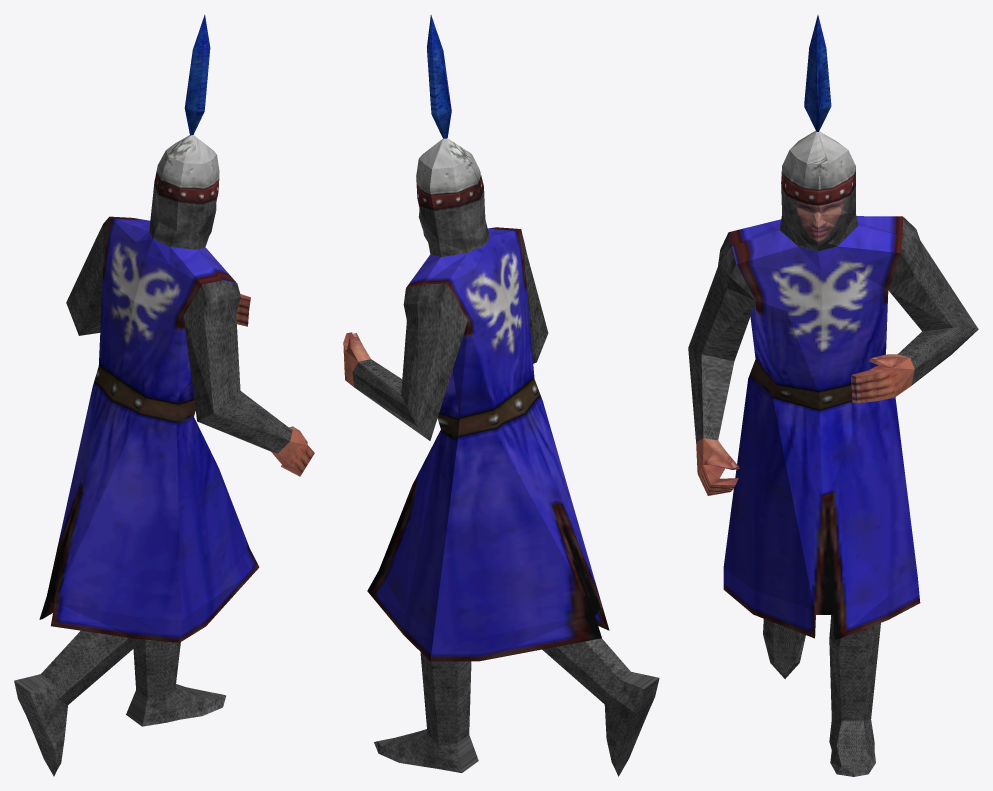
Rendered from guard_run12.obj.
3 views of the same model, side by side, from view 1: azimuth 30°, elevation 25°; view 2: azimuth 150°, elevation 25°; view 3: azimuth 270°, elevation 25° (orthographic). The views are drawn at different scales.
Visible parts, largest first — view 1: Object_1; view 2: Object_1; view 3: Object_1.
Part boxes in pixels (box(x1,y1,x2,y2)): Object_1: box(14, 14, 314, 776); Object_1: box(343, 15, 659, 776); Object_1: box(688, 15, 978, 776).
Size of the model in its own units: 0.8386 by 2.17 by 0.76.
Materials: 1 (1 with a texture image).
